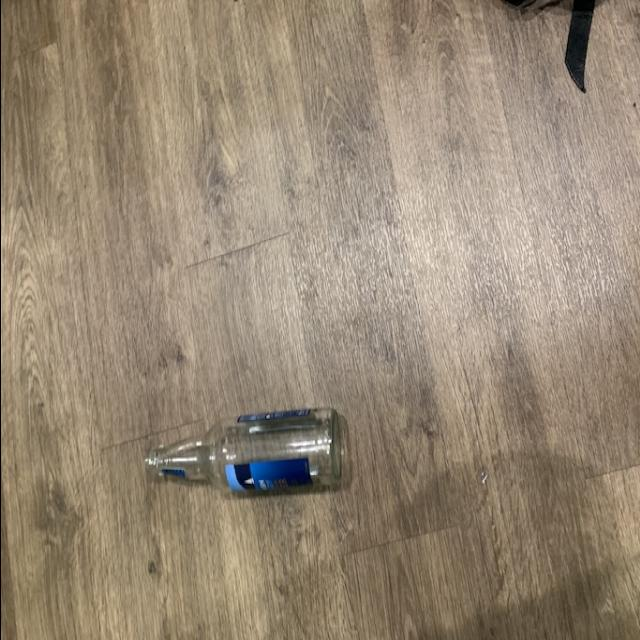litter: (144, 400, 344, 496)
